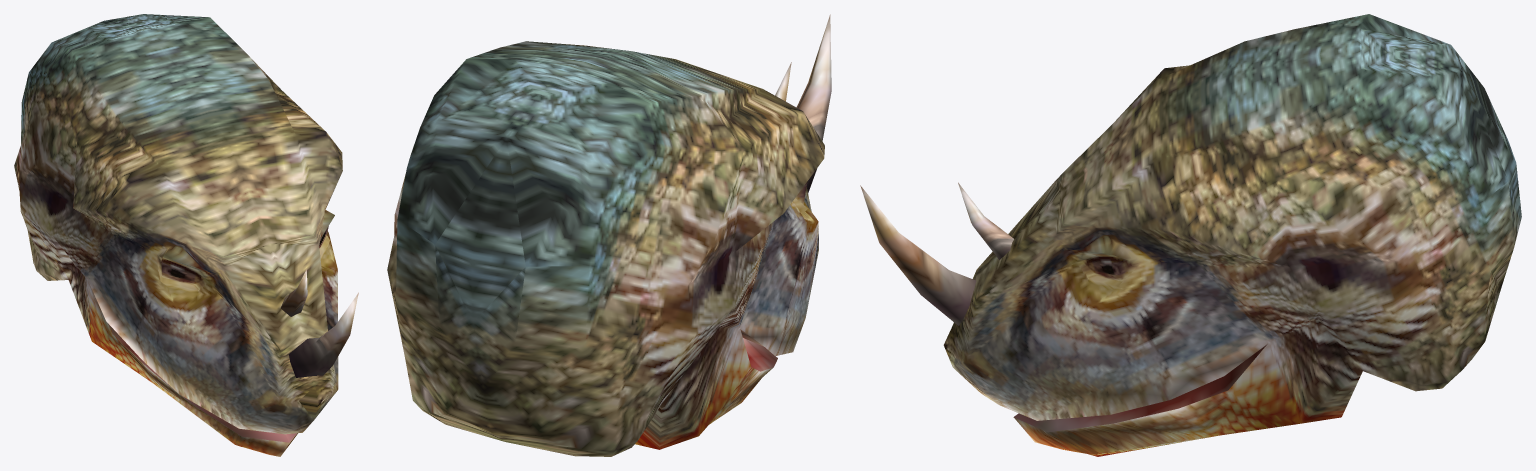
File: b_n_argonian_m_head_03.glb
The picture shows the model from 3 angles, left to right: view 1: azimuth 30°, elevation 25°; view 2: azimuth 150°, elevation 25°; view 3: azimuth 270°, elevation 25°; orthographic projection. The views are drawn at different scales.
Visible parts, largest first — view 1: Tri B_N_Argonian_M_Head_03; view 2: Tri B_N_Argonian_M_Head_03; view 3: Tri B_N_Argonian_M_Head_03.
Part boxes in pixels (<box>): Tri B_N_Argonian_M_Head_03: <box>14,14,358,456</box>; Tri B_N_Argonian_M_Head_03: <box>387,14,831,456</box>; Tri B_N_Argonian_M_Head_03: <box>860,14,1521,456</box>.
Bounding box in the file's own units: 0.1052 × 0.1417 × 0.2095.
Materials: 1 (1 with a texture image).
